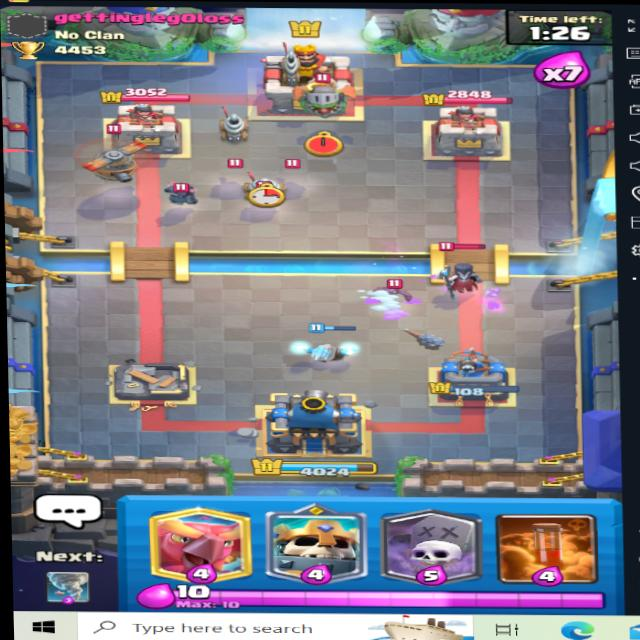bats: (377, 275, 417, 300)
flying-machine: (74, 124, 155, 185)
inferno-dragon: (294, 69, 354, 122)
mini-pekka: (154, 172, 208, 206)
night-witch: (435, 239, 483, 292)
zappie: (211, 107, 259, 137)
